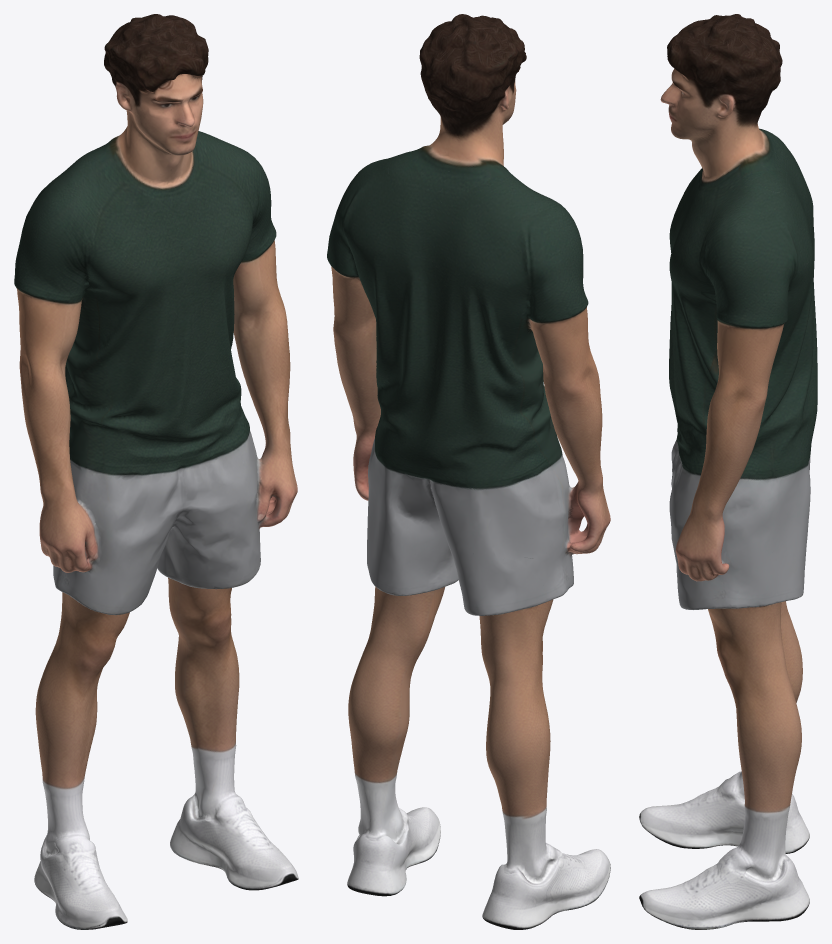
Rendered from PersonaEstudio.fbx.
3 renders of one model, left to right at view 1: azimuth 30°, elevation 25°; view 2: azimuth 150°, elevation 25°; view 3: azimuth 270°, elevation 25°, orthographic.
Visible parts, largest first — view 1: Mesh_0; view 2: Mesh_0; view 3: Mesh_0.
Boxes of the visible parts, bbox=[...] form: Mesh_0: bbox=[14, 14, 298, 929]; Mesh_0: bbox=[327, 14, 610, 929]; Mesh_0: bbox=[639, 14, 817, 929].
Size of the model in its own units: 59.17 by 190 by 35.75.
1 material, 1 textured.
